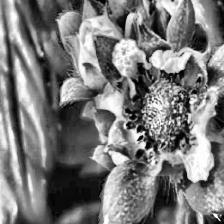Blossom Blight: (118, 51, 212, 168)
